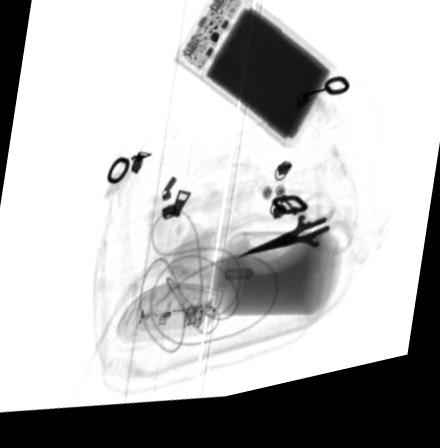Powerbank: (170, 0, 338, 165)
Scissors: (236, 206, 354, 269)
